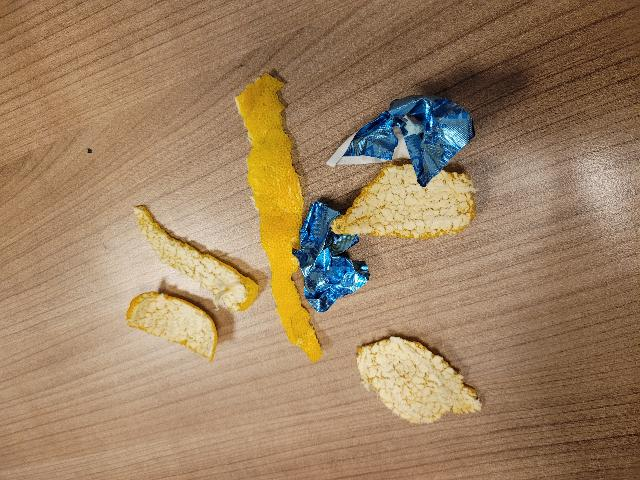Kagit: (329, 77, 480, 189), (292, 192, 371, 317)
Organik: (222, 62, 321, 371), (131, 197, 262, 371), (356, 329, 493, 434), (356, 166, 497, 252)
